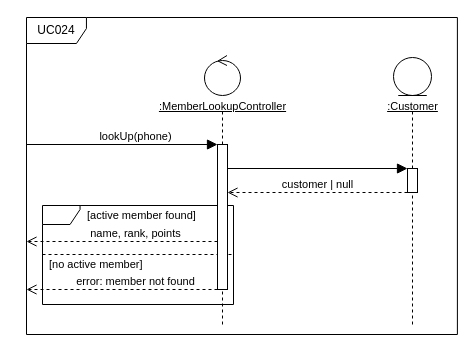
Some shapes in this 475 by 352 pixel diagram are drawn without their labels. Here are the shapes that lost their labels. From the top down, the box of each, then its label:
(248, 152, 386, 167): findActiveByPhone(phone)
(42, 204, 234, 304): alt
